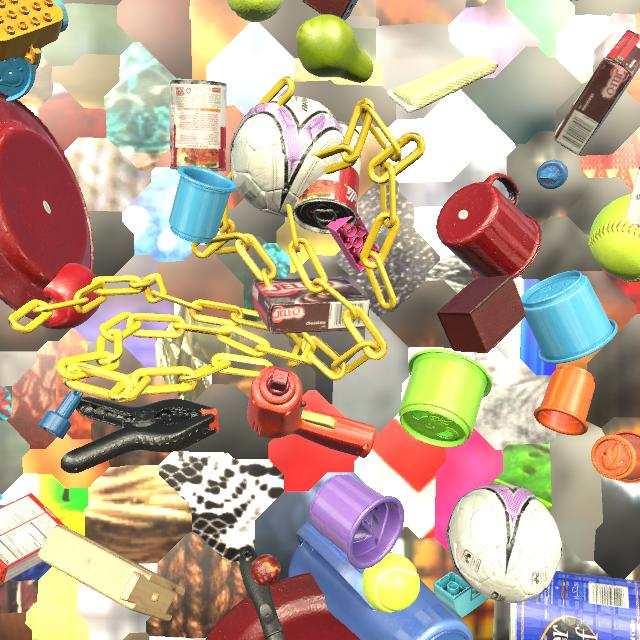ycb_002_master_chef_can: (509, 571, 640, 640)
ycb_004_sugar_box: (626, 165, 640, 227)
ycb_005_tomato_soup_can: (292, 121, 362, 234), (169, 79, 227, 171)
ycb_008_pudding_box: (554, 30, 640, 156), (252, 277, 370, 334)
ycb_009_gelatin_box: (0, 493, 67, 585)
ycb_013_apple: (42, 263, 100, 330)
ycb_016_pear: (296, 14, 373, 83)
